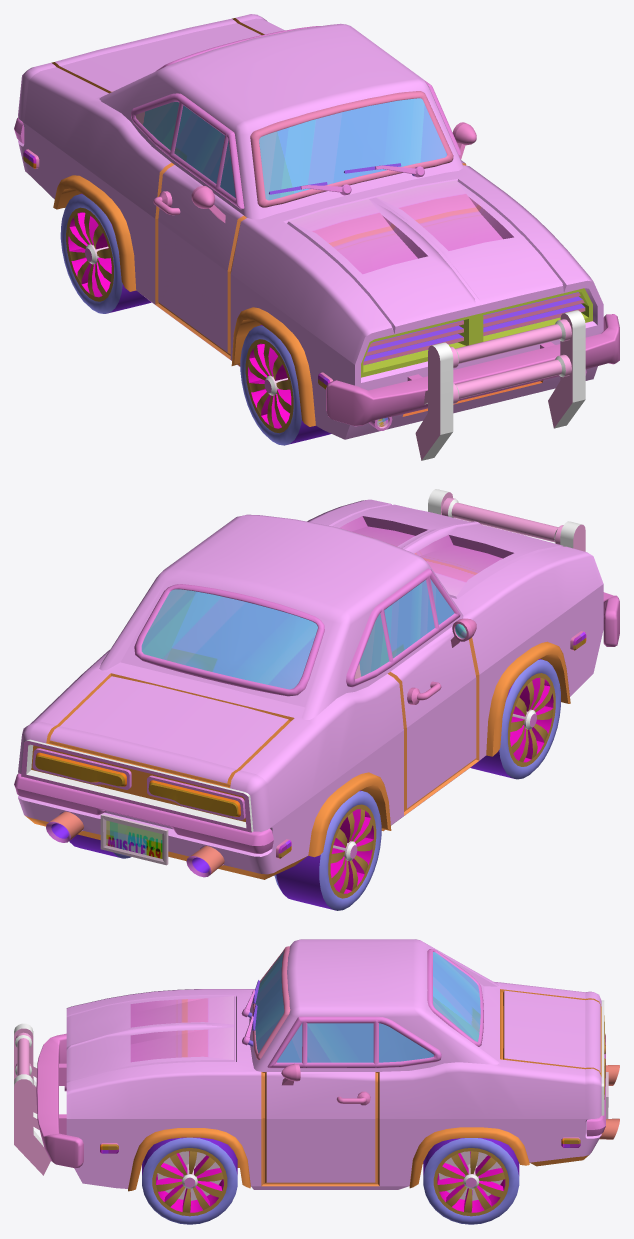
Rendered from MuscleCar1969_GRP.fbx.
The picture shows the model from 3 angles, top to bottom: view 1: azimuth 30°, elevation 25°; view 2: azimuth 150°, elevation 25°; view 3: azimuth 270°, elevation 25°; orthographic projection. The views are drawn at different scales.
Parts seen in each view (by area): view 1: MuscleCar1969_mesh, MuscleCar1969_Wheel_BR_mesh, MuscleCar1969_Wheel_FR_mesh; view 2: MuscleCar1969_mesh, MuscleCar1969_Wheel_BR_mesh, MuscleCar1969_Wheel_FR_mesh; view 3: MuscleCar1969_mesh, MuscleCar1969_Wheel_FL_mesh, MuscleCar1969_Wheel_BL_mesh.
Boxes of the visible parts, x1,y1,x2,y2 form: MuscleCar1969_mesh: [14, 14, 619, 460]; MuscleCar1969_Wheel_BR_mesh: [60, 193, 151, 313]; MuscleCar1969_Wheel_FR_mesh: [240, 325, 331, 445]; MuscleCar1969_mesh: [14, 489, 619, 879]; MuscleCar1969_Wheel_BR_mesh: [274, 790, 381, 910]; MuscleCar1969_Wheel_FR_mesh: [470, 659, 560, 779]; MuscleCar1969_mesh: [14, 939, 619, 1191]; MuscleCar1969_Wheel_FL_mesh: [142, 1137, 237, 1224]; MuscleCar1969_Wheel_BL_mesh: [423, 1138, 519, 1224].
Bounding box in the file's own units: 1.44 × 1.26 × 3.32.
